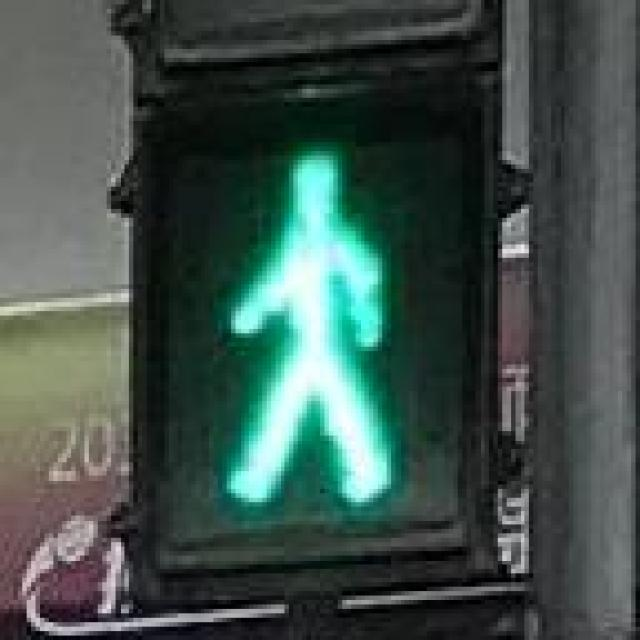green_light: (160, 102, 471, 529)
